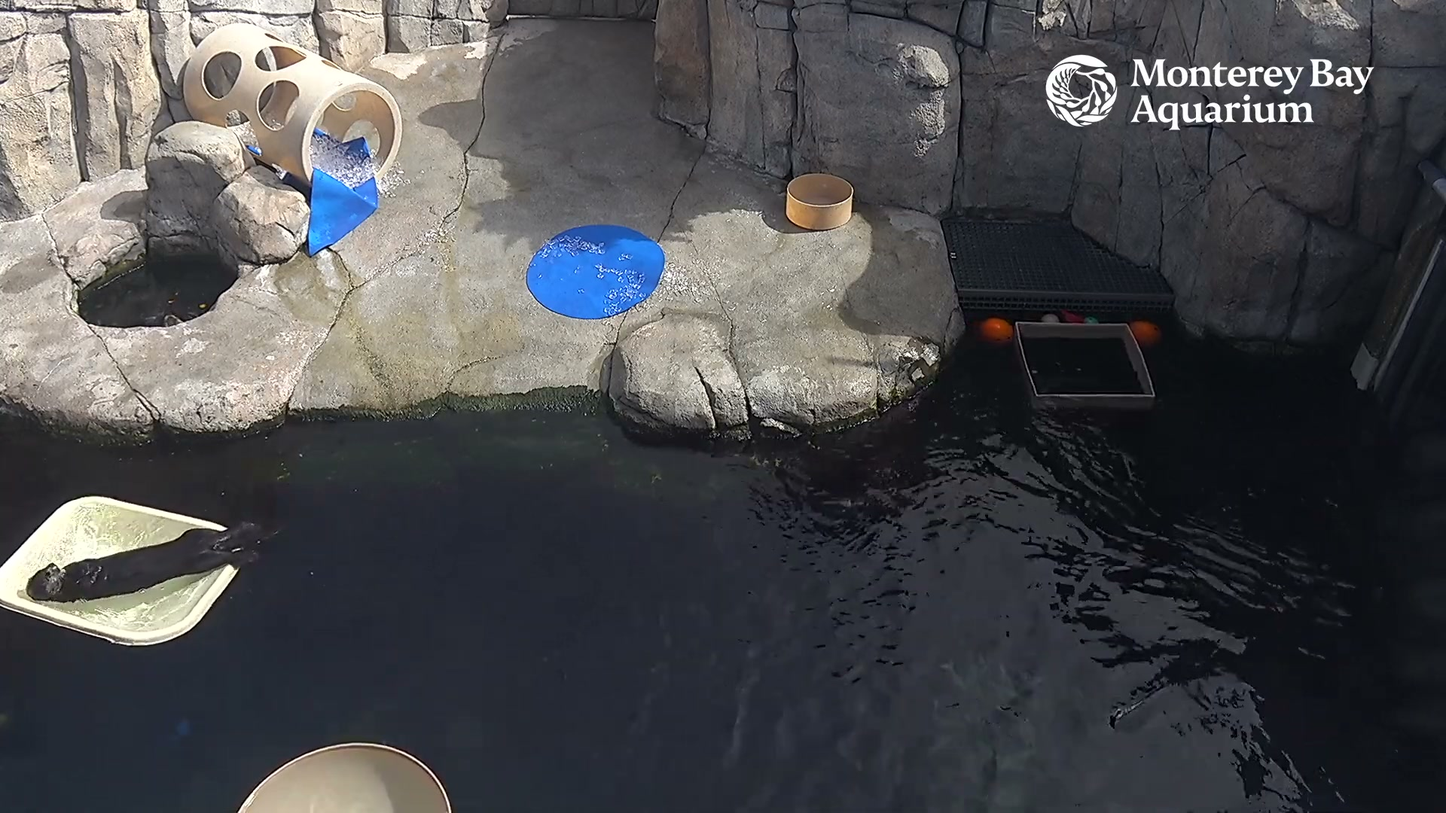Southern Sea Otter: (13, 478, 281, 619)
